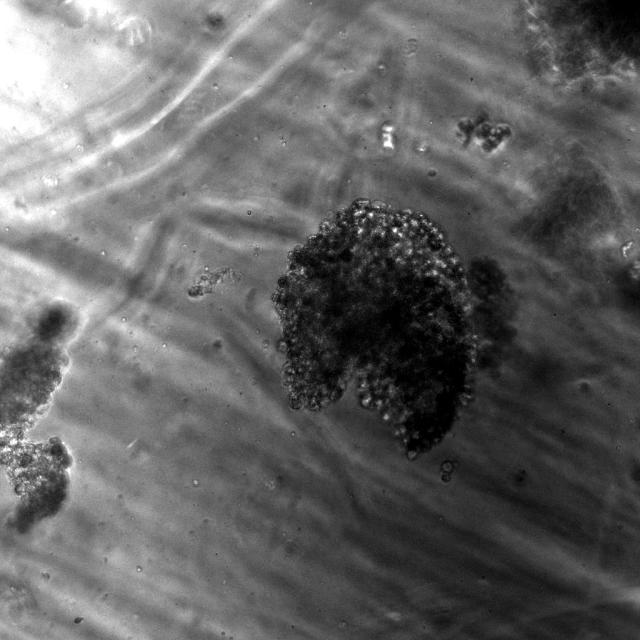organoid: (272, 199, 516, 455), (512, 145, 639, 305), (0, 302, 74, 532), (522, 0, 639, 81), (457, 113, 511, 152), (188, 266, 241, 297)
